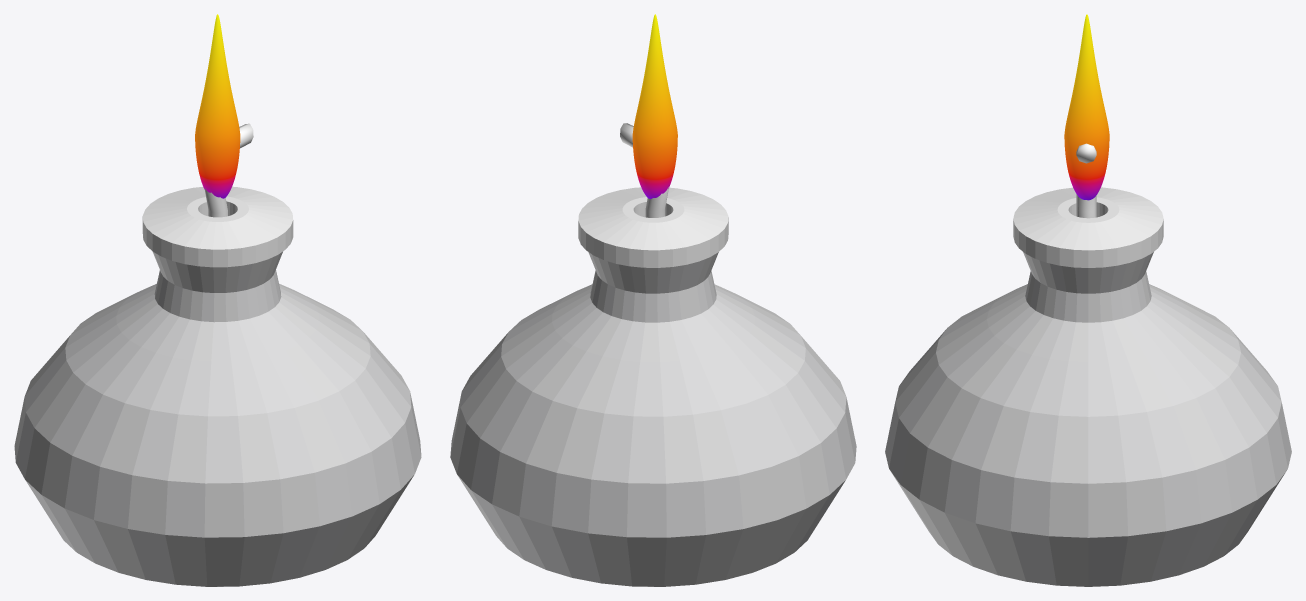
The model's file is dencon.glb.
The picture shows the model from 3 angles, left to right: view 1: azimuth 30°, elevation 25°; view 2: azimuth 150°, elevation 25°; view 3: azimuth 270°, elevation 25°; orthographic projection.
Parts seen in each view (by area): view 1: den_con.001, GLB_Flame_V260; view 2: den_con.001, GLB_Flame_V260; view 3: den_con.001, GLB_Flame_V260.
Boxes of the visible parts, x1,y1,x2,y2 form: den_con.001: (14, 123, 421, 586); GLB_Flame_V260: (195, 14, 240, 198); den_con.001: (450, 123, 856, 586); GLB_Flame_V260: (632, 14, 677, 198); den_con.001: (885, 143, 1291, 586); GLB_Flame_V260: (1064, 14, 1109, 200).
Bounding box in the file's own units: 0.0955 × 0.141 × 0.0955.
